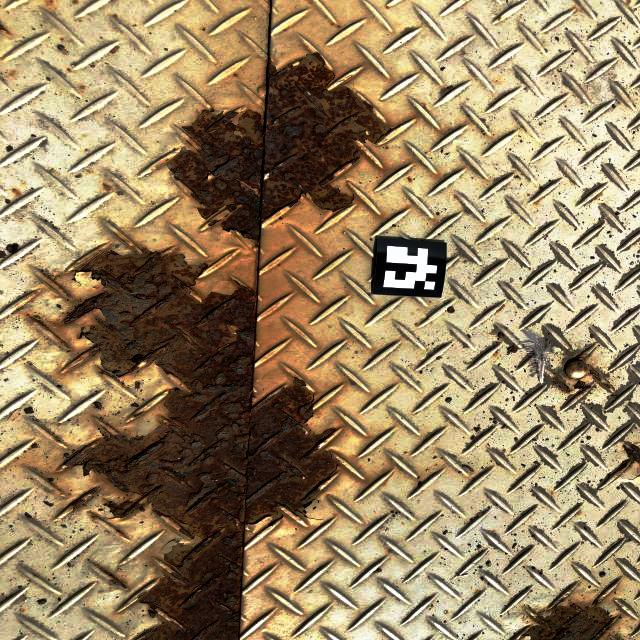Corrosion: (60, 252, 338, 640), (167, 53, 389, 241), (517, 605, 620, 640), (31, 316, 71, 348), (45, 276, 76, 300), (69, 346, 99, 370), (70, 487, 99, 511), (99, 566, 127, 588), (618, 446, 640, 471), (566, 355, 589, 376), (552, 377, 572, 392), (572, 380, 591, 393), (589, 369, 602, 382), (601, 382, 613, 390), (0, 23, 9, 32)
